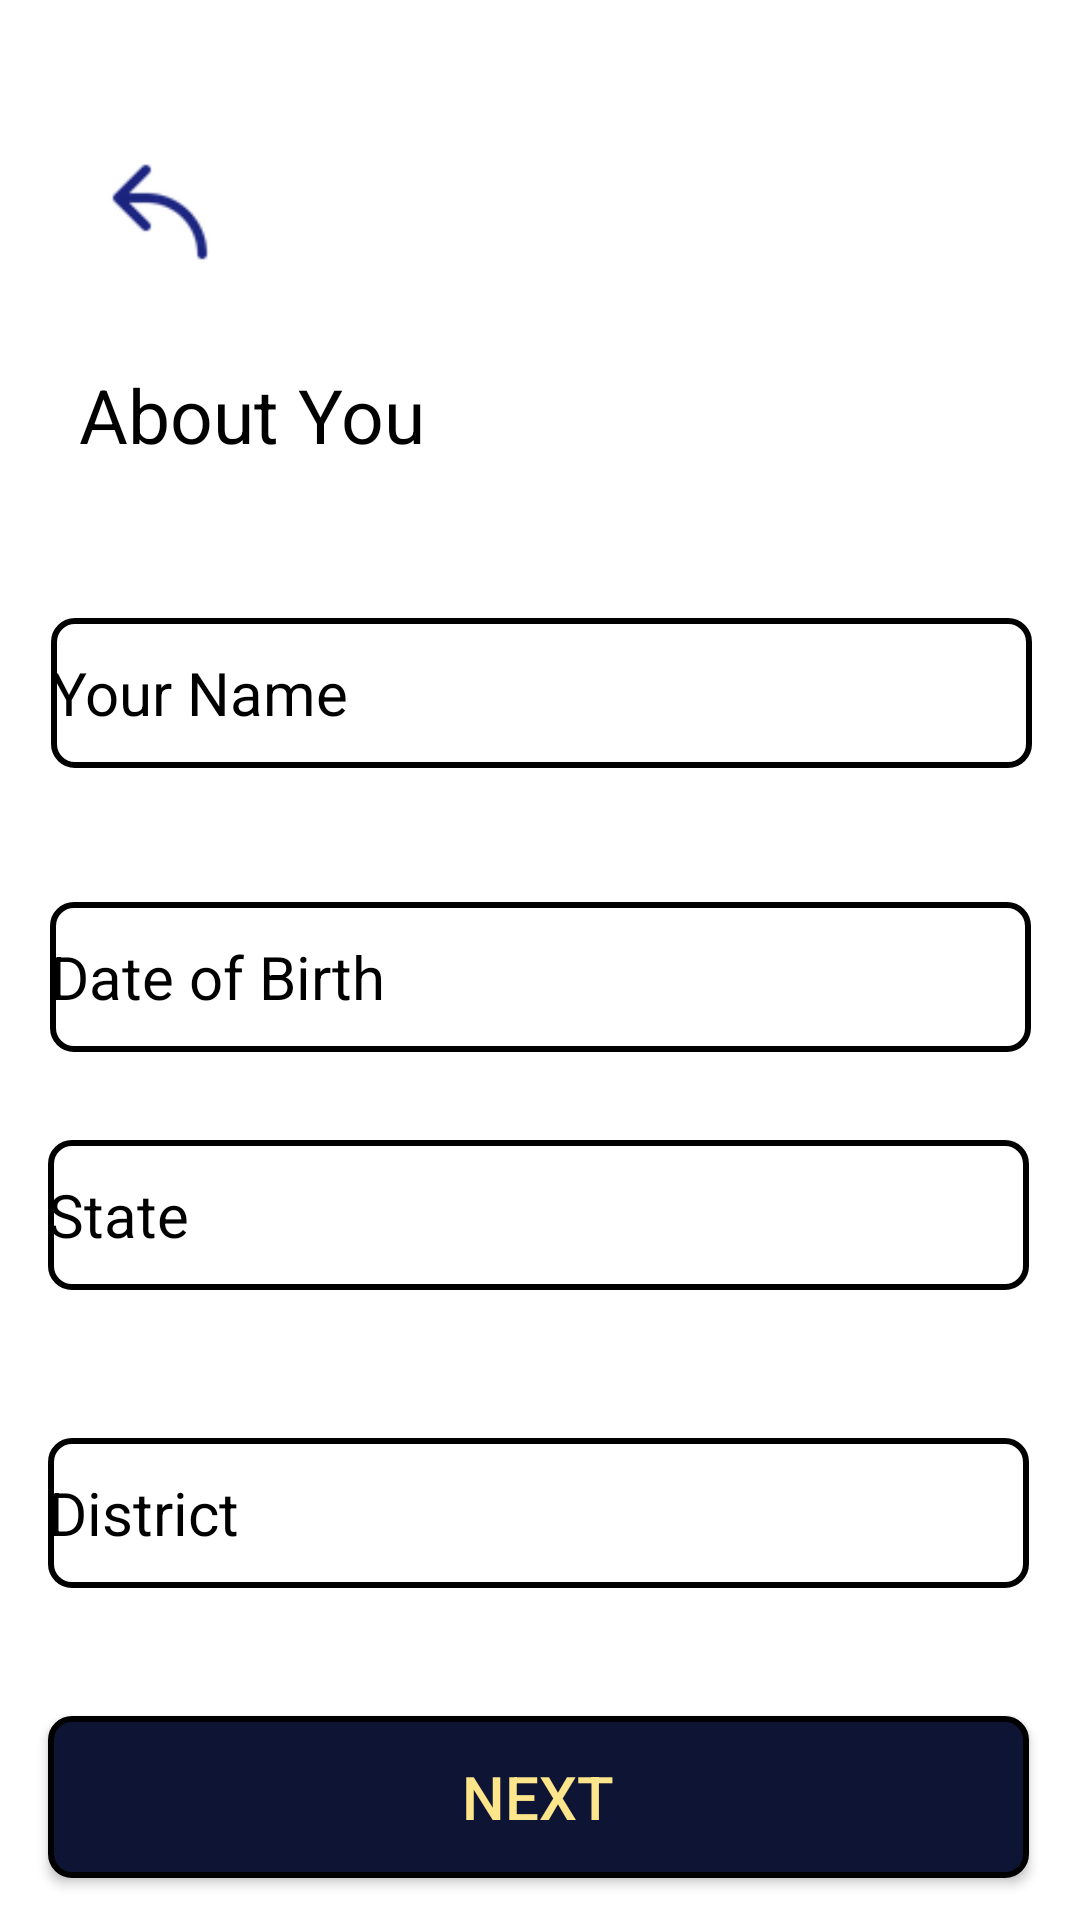

Icons on this 1080x1920 Android screen, each with its box as bbox(x1, y1, x2, y2):
backarrow: bbox(112, 164, 208, 260)
